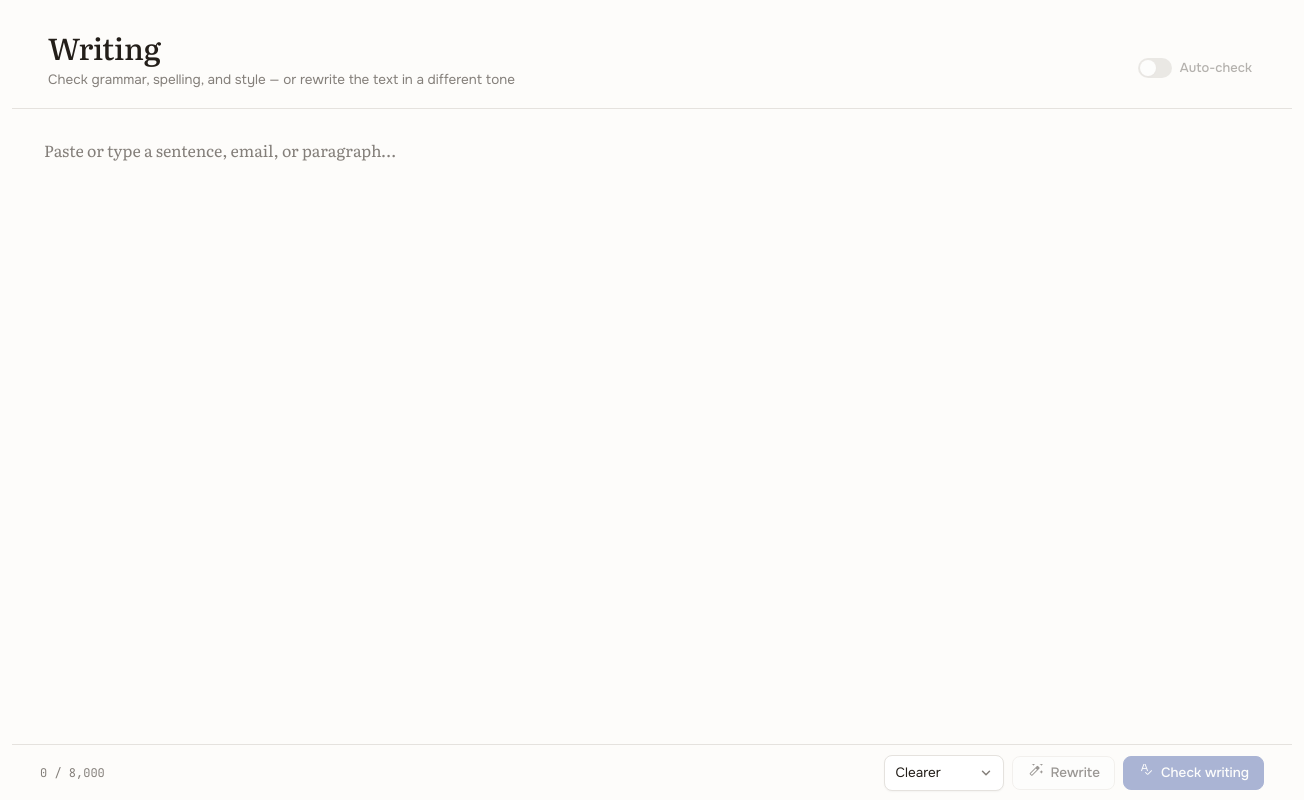
Test: WritingPage › shows a privacy banner and skips persistence IPC for ephemeral checks
Type "he go home" into the text box named "Text to check" at (652, 426), box [12,109,1292,744]
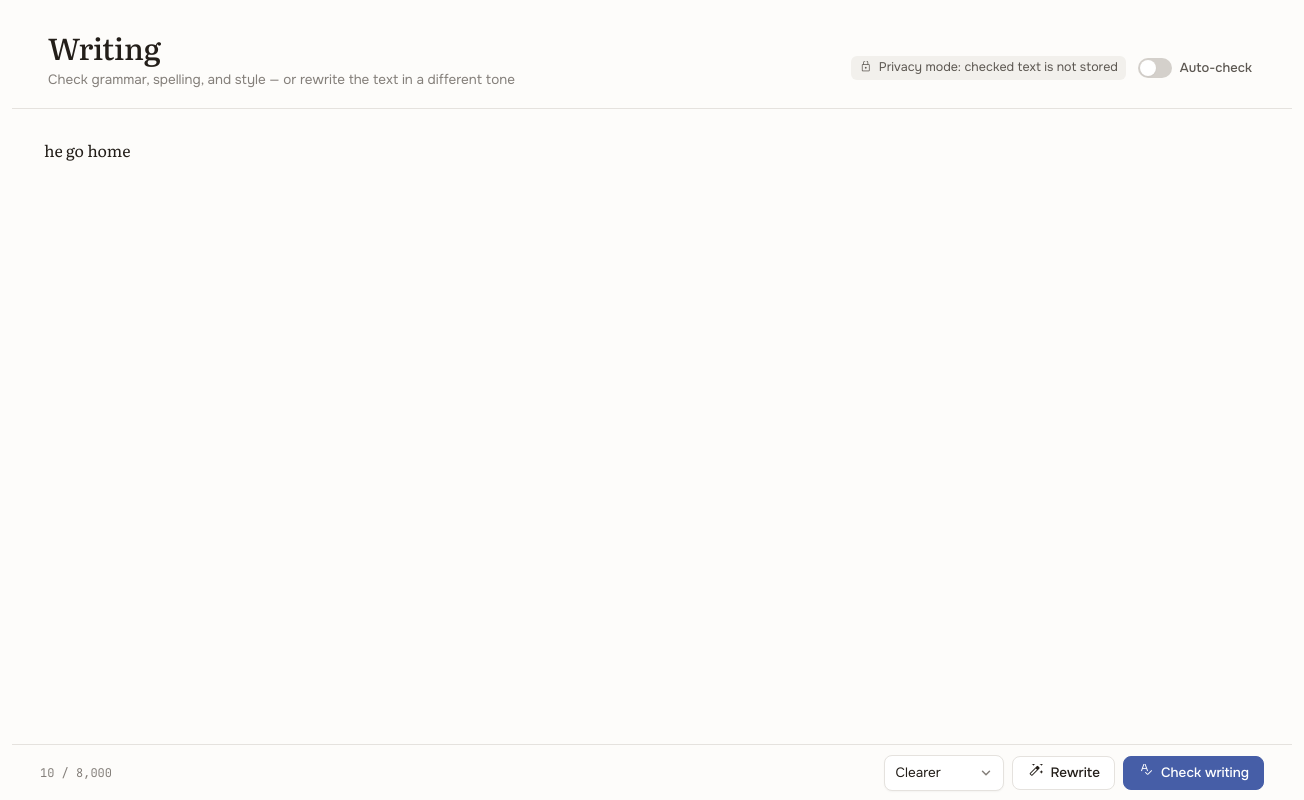
Click the button "Check writing" at (1194, 772), box [1123,756,1264,790]
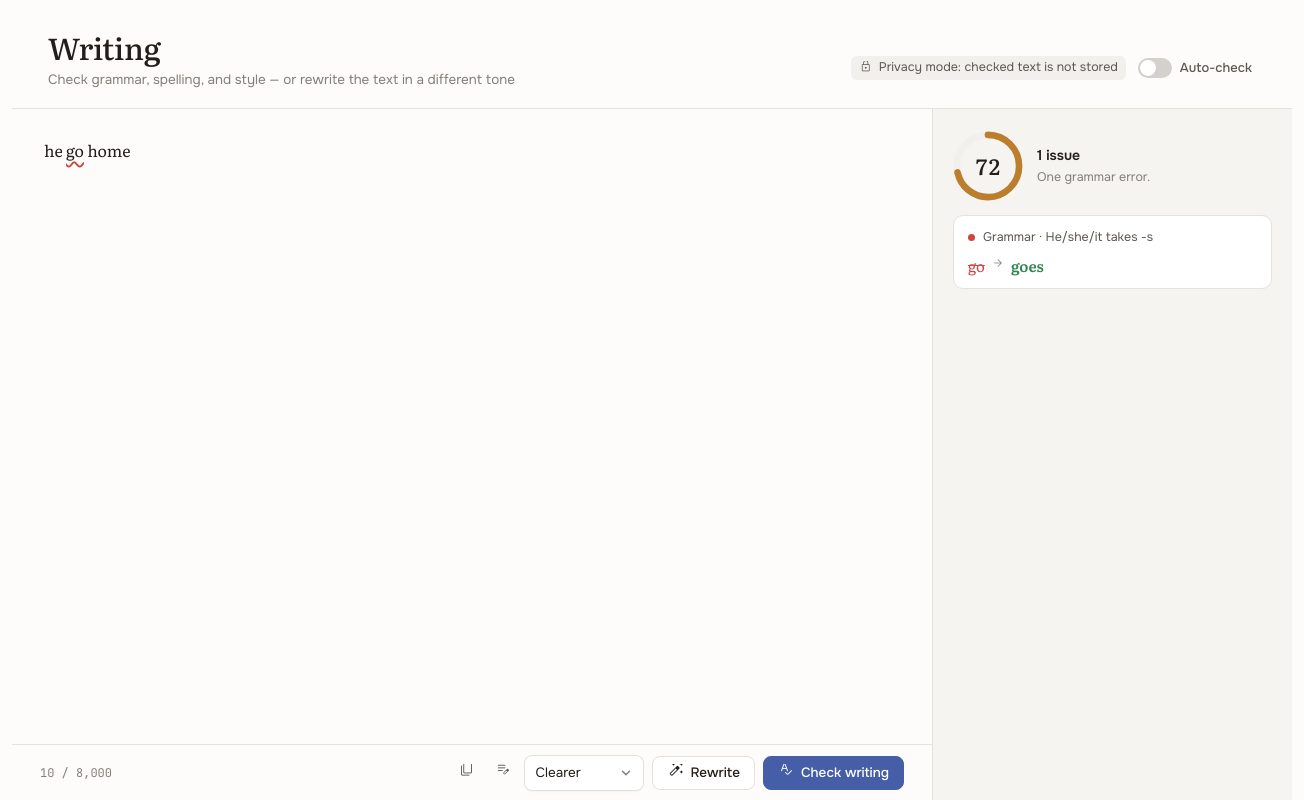
Now the text "Privacy mode: checked text is not stored" is shown, box [851,56,1126,80]
Now the text "One grammar error." is shown, box [1037,169,1150,185]
Click the button with aria-label "Issue in" at (75, 150), box [66,137,84,164]
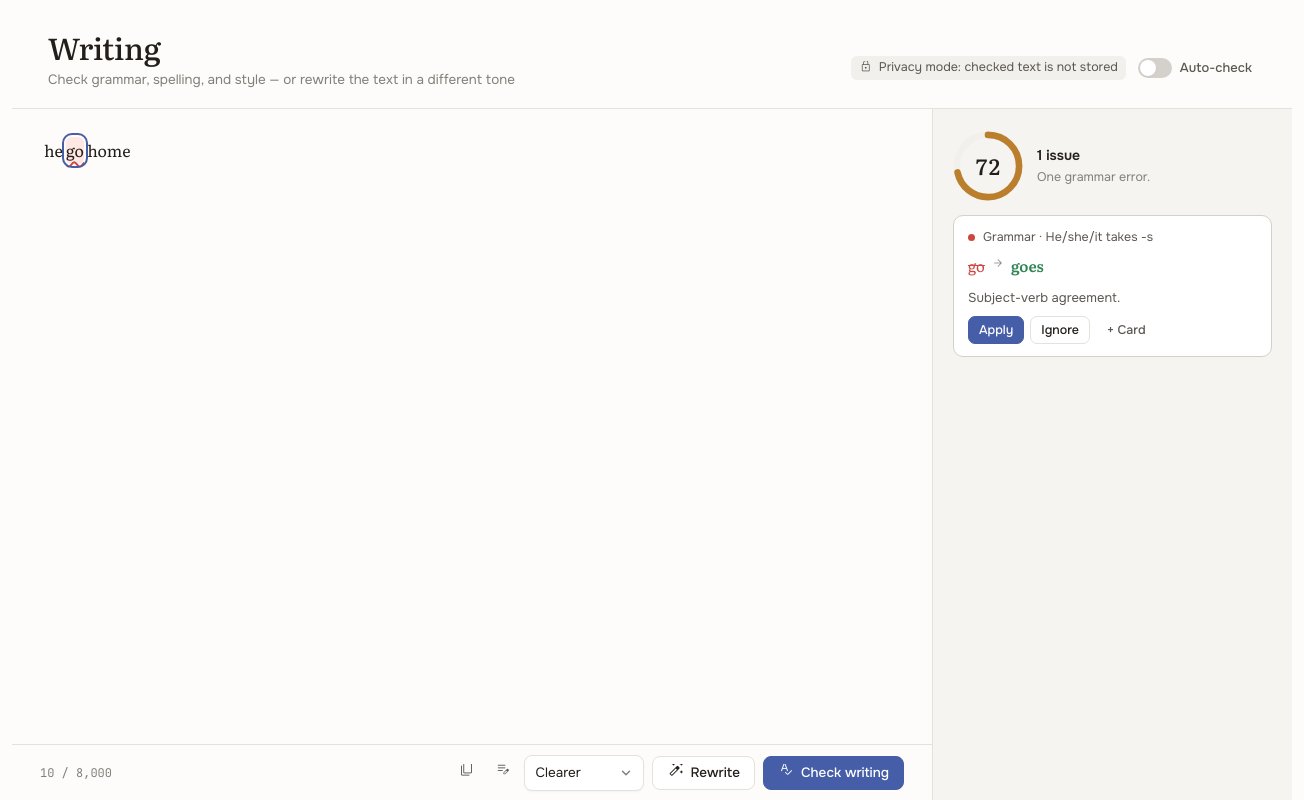
Click the button with aria-label "Ignore issue go" at (1060, 330), box [1030,316,1090,344]
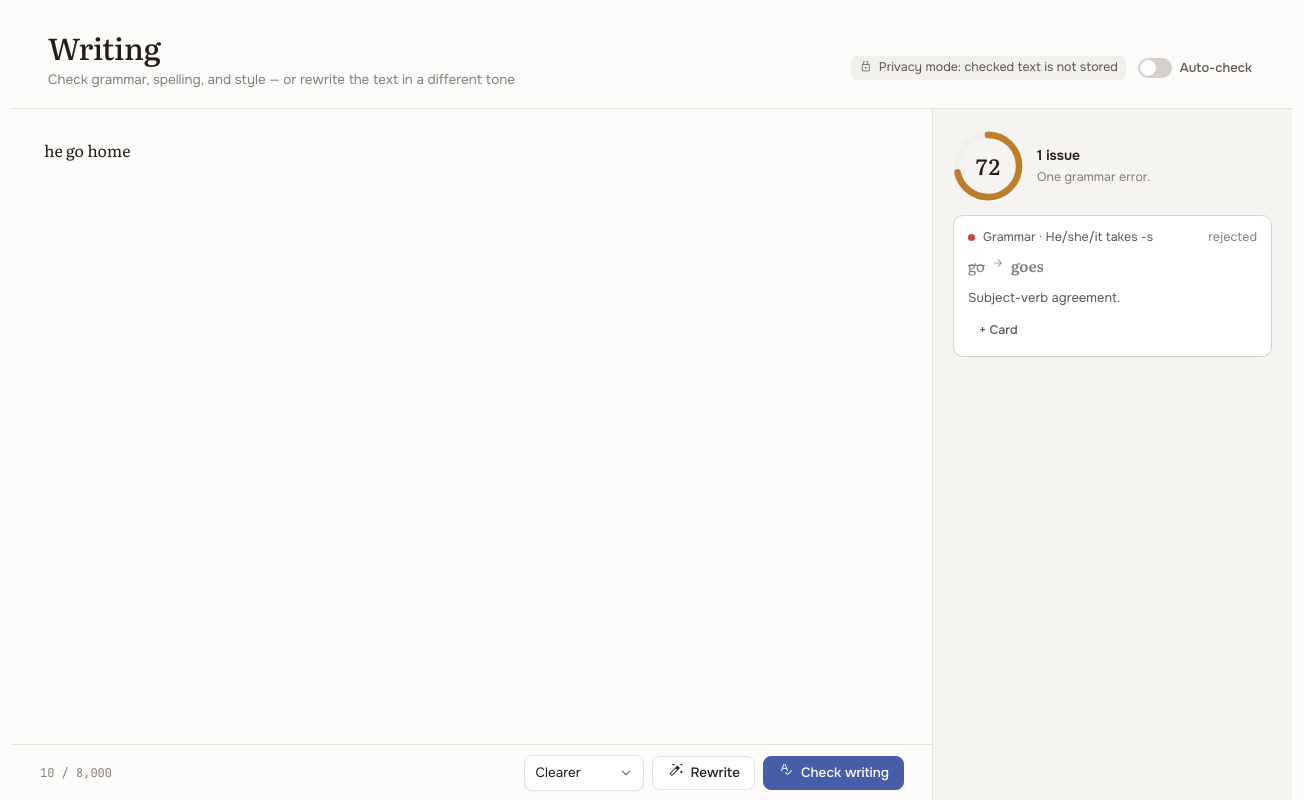
Now the element named "Original text with issues highlighted" reads "he go home", box [44,138,130,162]
Now the button with class "writing-mark" is gone
